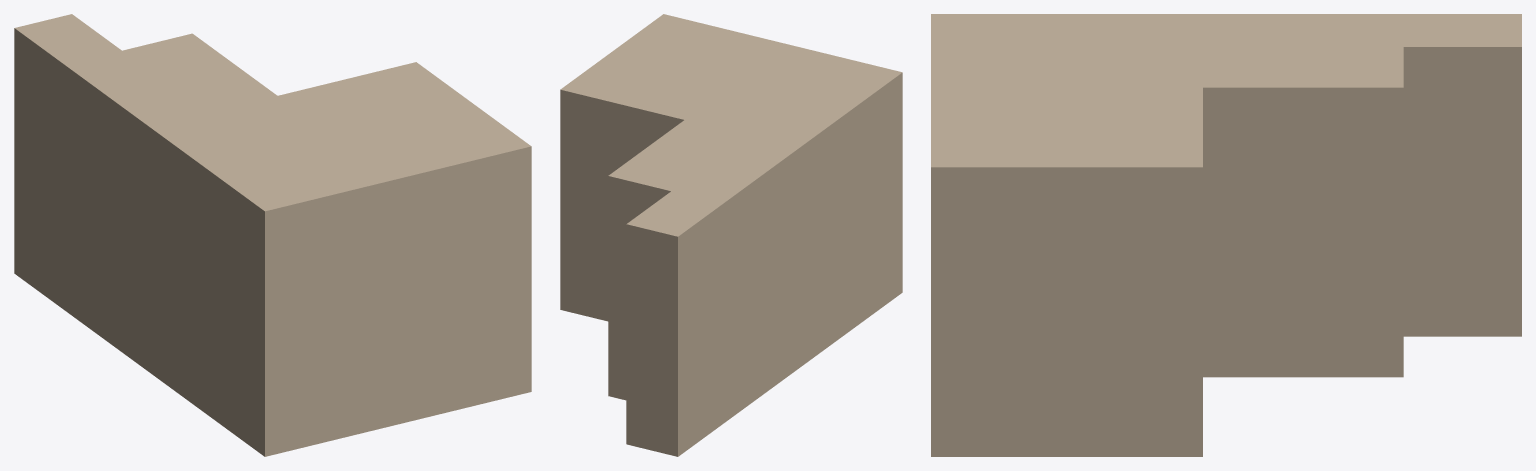
File: massing.glb
3 views of the same model, side by side, from view 1: azimuth 30°, elevation 25°; view 2: azimuth 150°, elevation 25°; view 3: azimuth 270°, elevation 25° (orthographic). The views are drawn at different scales.
Parts seen in each view (by area): view 1: building/exterior; view 2: building/exterior; view 3: building/exterior.
Part boxes in pixels (<box>): building/exterior: <box>14,14,531,456</box>; building/exterior: <box>560,14,902,456</box>; building/exterior: <box>931,14,1521,456</box>.
Bounding box in the file's own units: 10 × 8.8 × 16.27.
